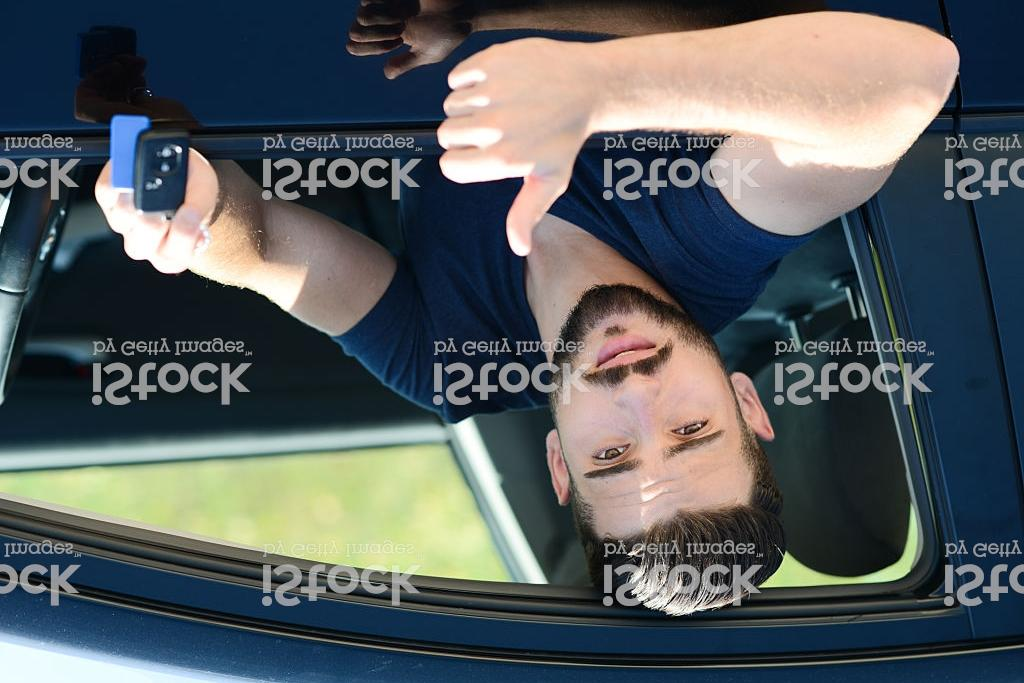thumbsdown: (435, 33, 586, 259)
